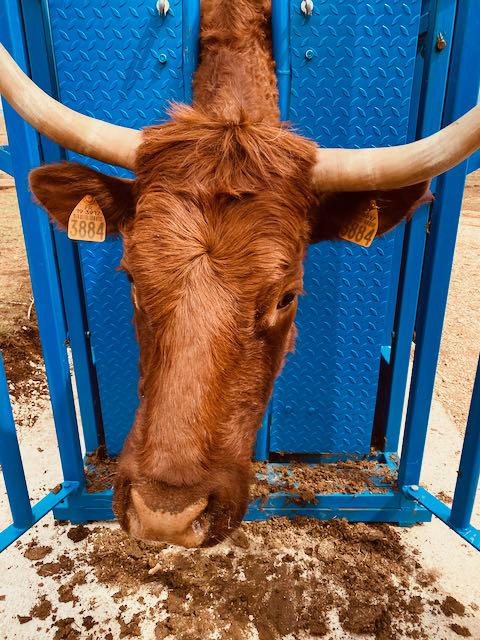muzzles: (106, 466, 245, 555)
